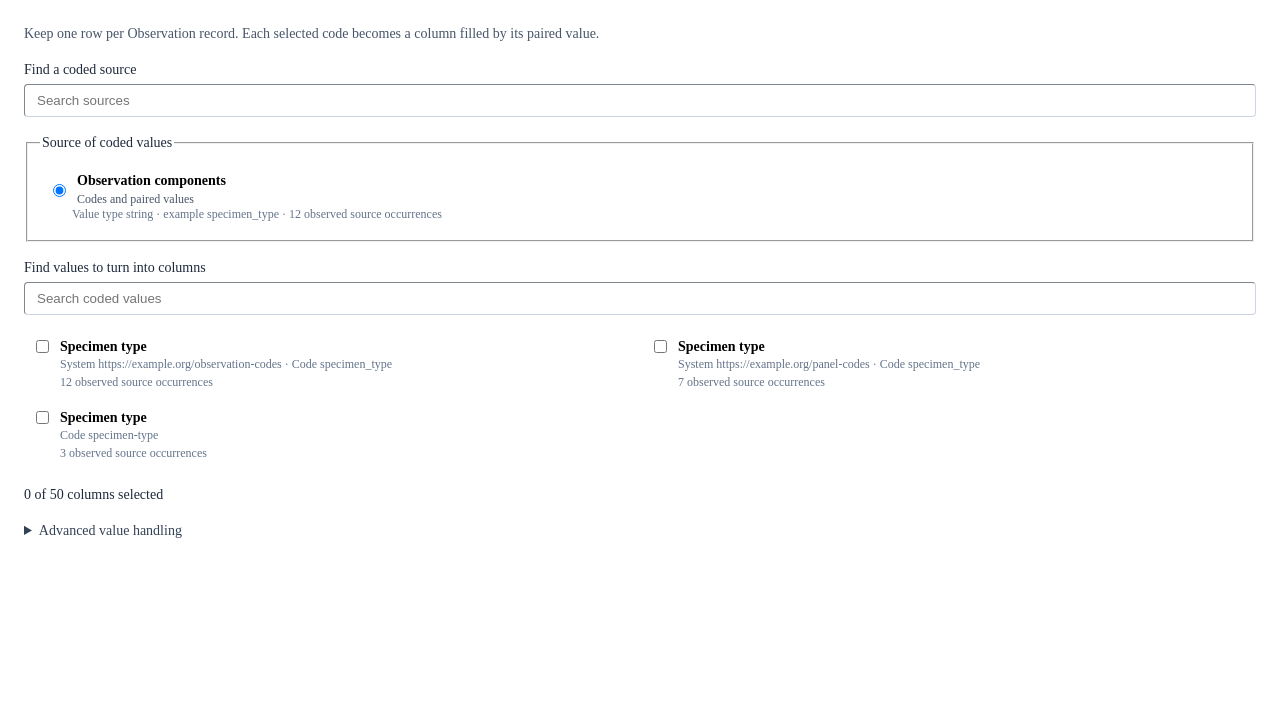
Scenario: CodedPivotEditor › shows code identity before selecting ambiguous labels and preserves the same output labels
The width and height of the screenshot is (1280, 720).
Expected: the text "System https://example.org/observation-codes · Code specimen_type" is shown, [60,357,392,372]
Expected: the text "System https://example.org/panel-codes · Code specimen_type" is shown, [678,357,980,372]
Click the checkbox labelled "Specimen type".
click(42, 346)  # box [36,340,49,353]
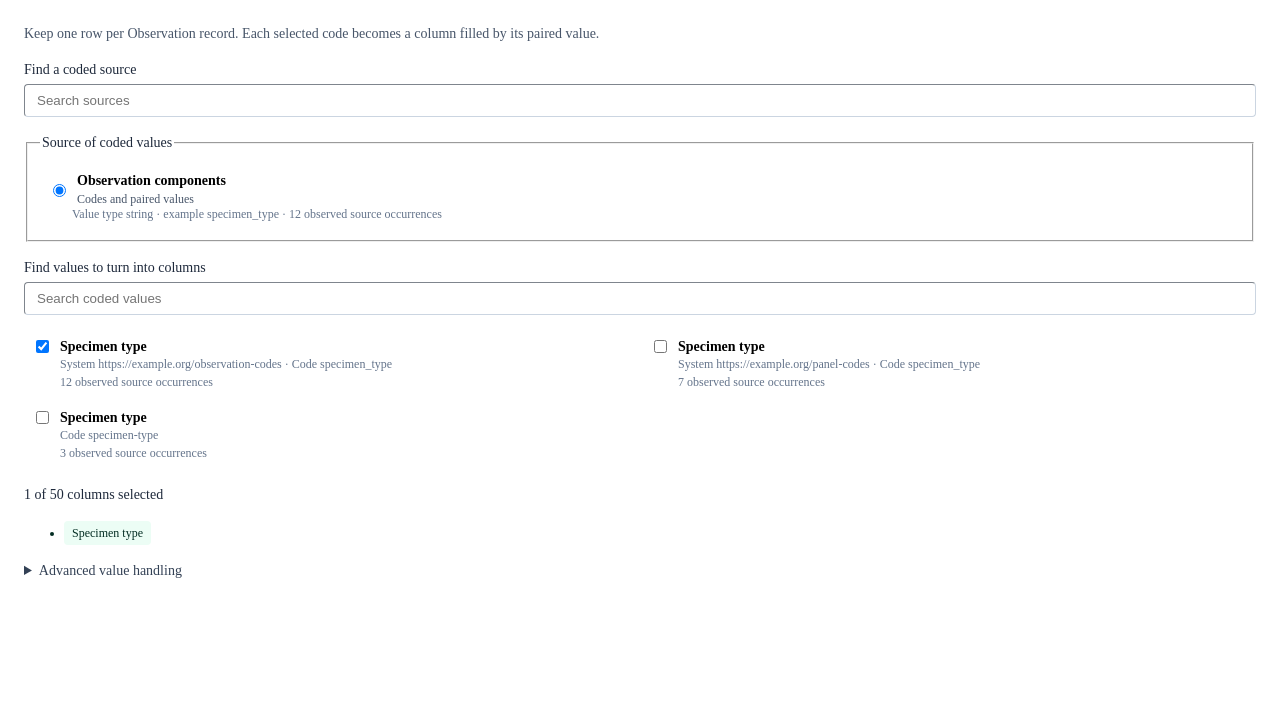
Click the checkbox labelled "Specimen type".
click(660, 346)  # box [654,340,667,353]
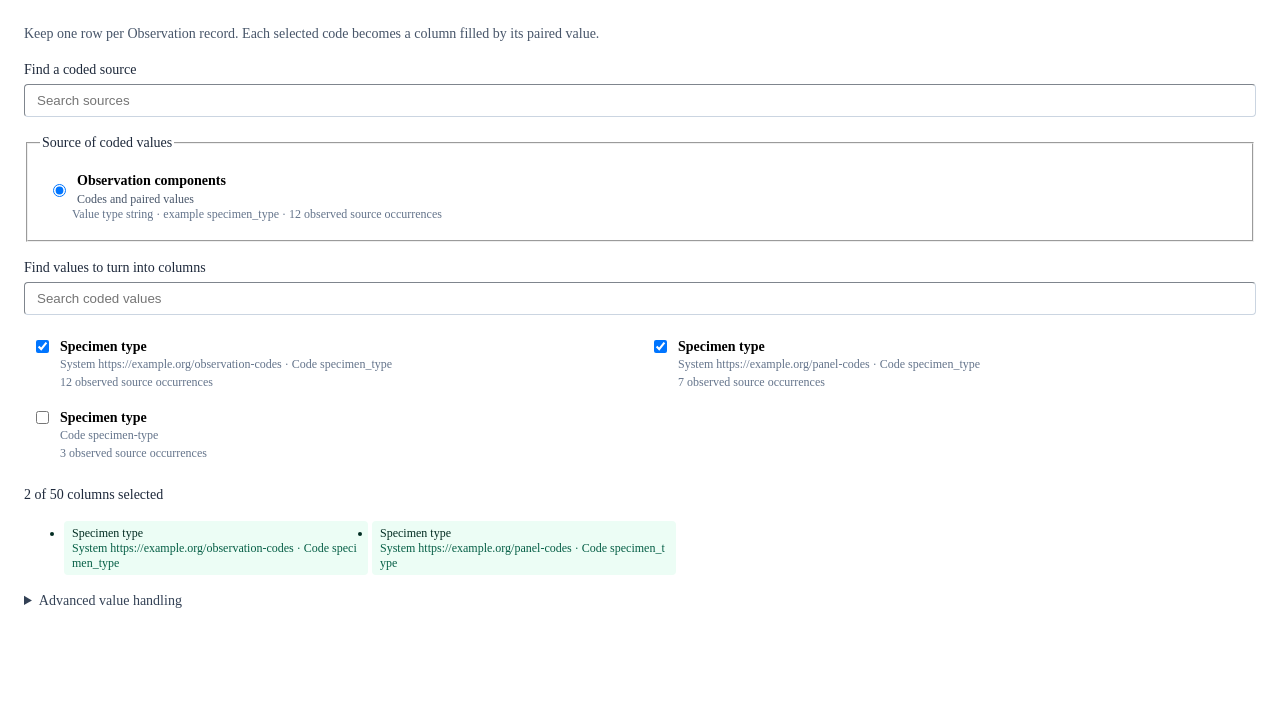
Click the checkbox labelled "Specimen type".
click(42, 417)  # box [36,411,49,424]
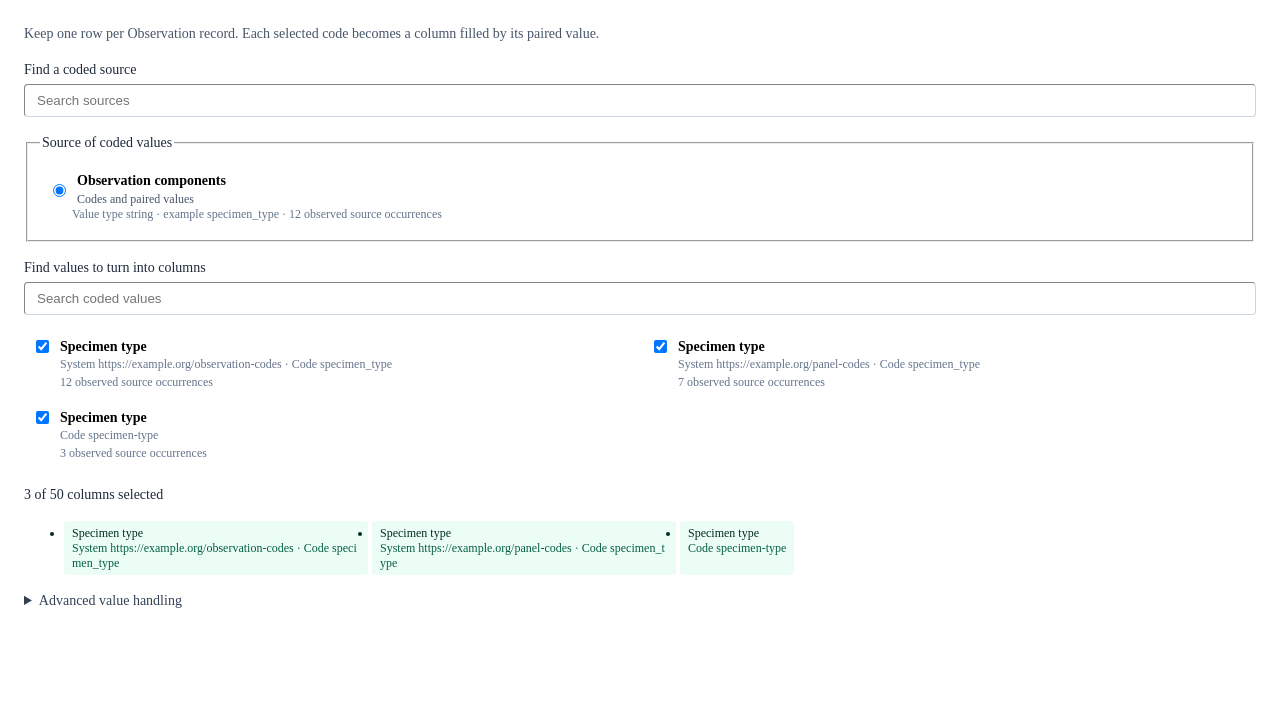
Expected: the text "System https://example.org/observation-codes · Code specimen_type" is shown 2 times, [60,357,392,372]; [72,541,360,571]
Now the text "System https://example.org/panel-codes · Code specimen_type" is shown 2 times, box [678,357,980,372]; [380,541,668,571]
Now the text "Code specimen-type" is shown 2 times, box [60,428,158,442]; [688,541,786,556]
